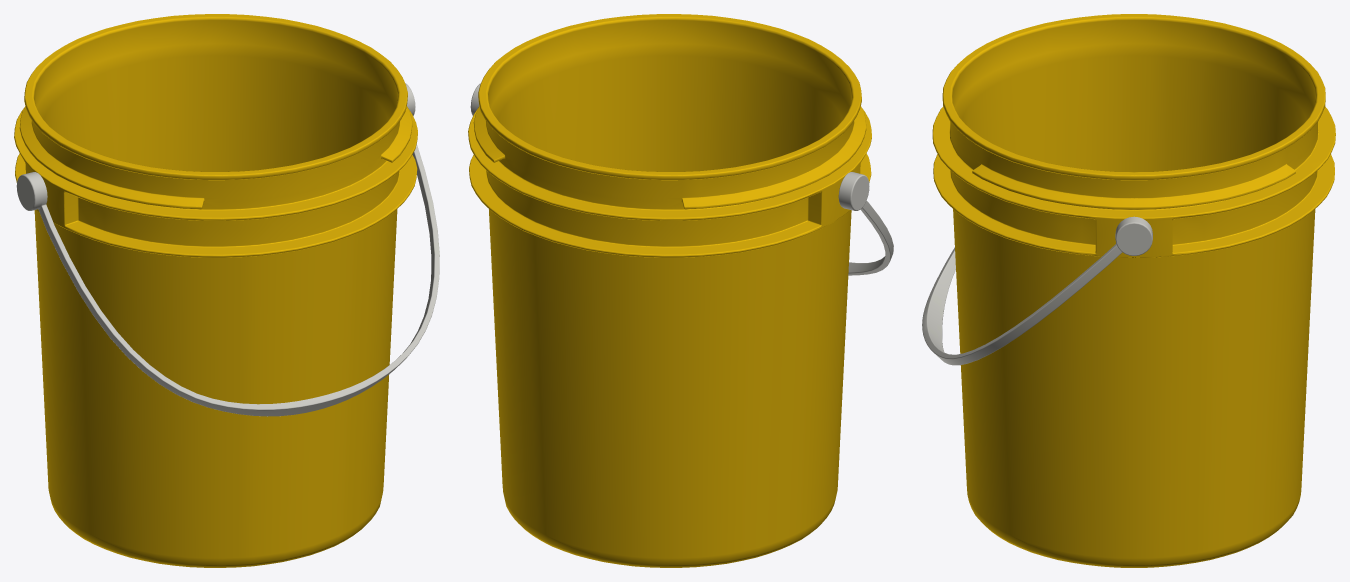
The model's file is pail_plastic_yellow_a02.glb.
3 renders of one model, left to right at view 1: azimuth 30°, elevation 25°; view 2: azimuth 150°, elevation 25°; view 3: azimuth 270°, elevation 25°, orthographic.
Visible parts, largest first — view 1: sm_body_a02_mesh_00, sm_handle_a02_mesh_00; view 2: sm_body_a02_mesh_00, sm_handle_a02_mesh_00; view 3: sm_body_a02_mesh_00, sm_handle_a02_mesh_00.
Boxes of the visible parts, box(x1,y1,x2,y2) form: sm_body_a02_mesh_00: box(14, 14, 417, 567); sm_handle_a02_mesh_00: box(16, 83, 439, 416); sm_body_a02_mesh_00: box(468, 14, 871, 567); sm_handle_a02_mesh_00: box(470, 83, 893, 275); sm_body_a02_mesh_00: box(932, 14, 1335, 567); sm_handle_a02_mesh_00: box(922, 216, 1152, 365).
Size of the model in its own units: 0.196 by 0.2 by 0.1844.
Materials: 2 (1 with a texture image).
